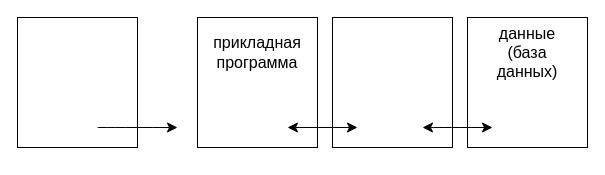
The diagram is 605 pixels wide and 175 high, and some of its shapes have lost their labels. The shapes that lost their labels are listed below. From the top down, each one's centre as x and y in pixels, then its label:
At [77,82]: "компьютер".
At [392,82]: "СУБД".
